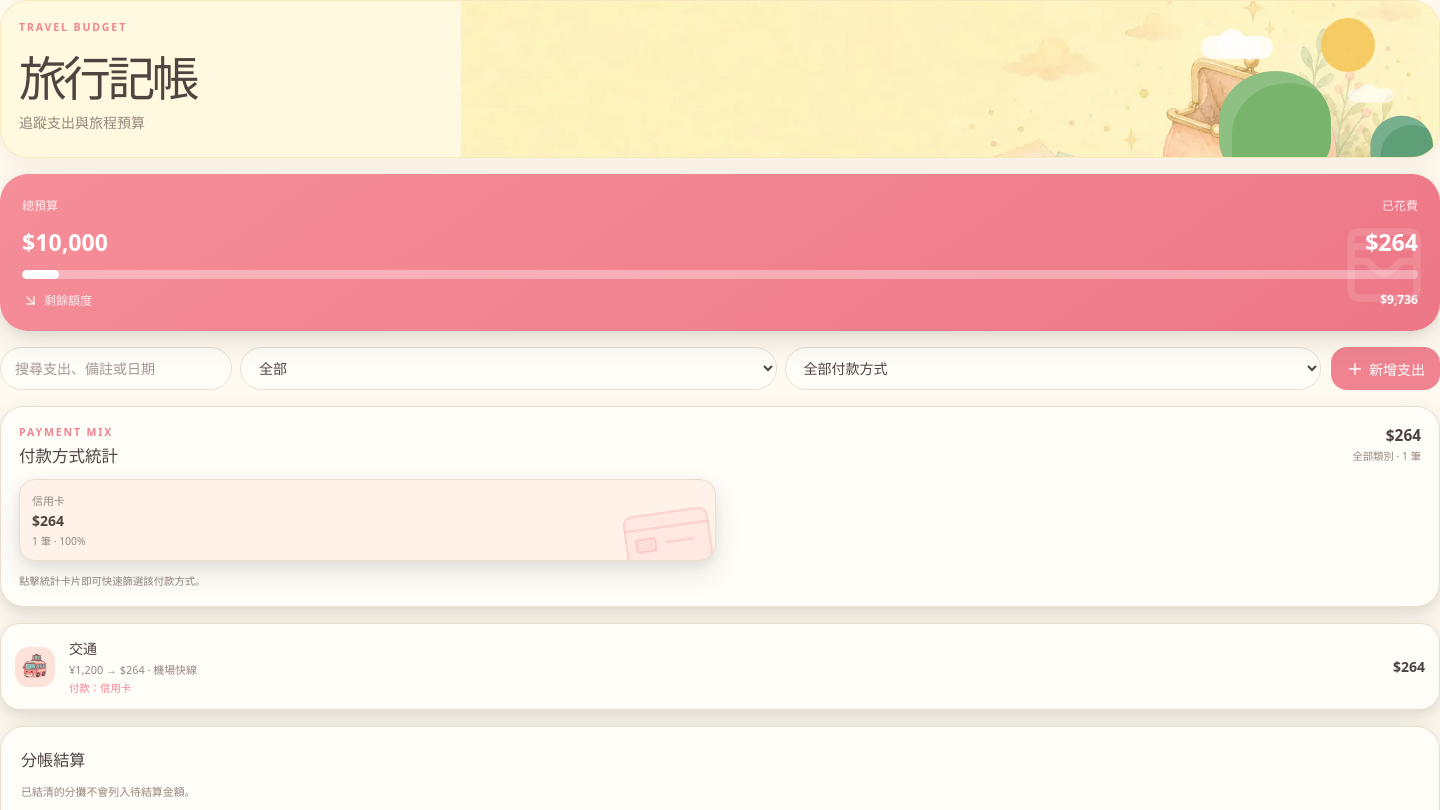
Test: ExpensePage › removes an edited expense and its splits after delete confirmation
Click the button with aria-label "編輯交通支出" at (35,666), box [0,623,1439,710]
(page scrolled)
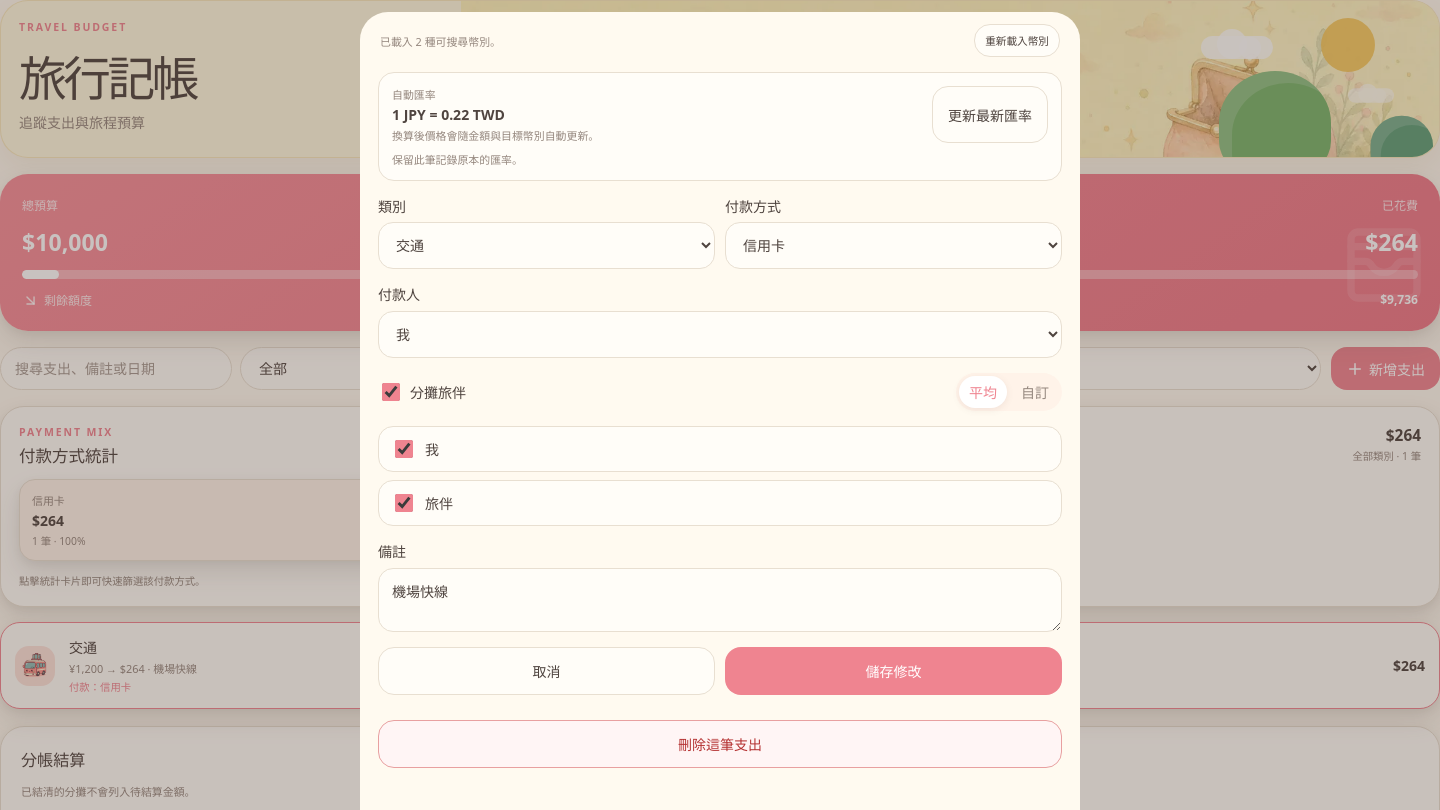
Click the button "刪除這筆支出" at (720,744), box [378,720,1062,768]
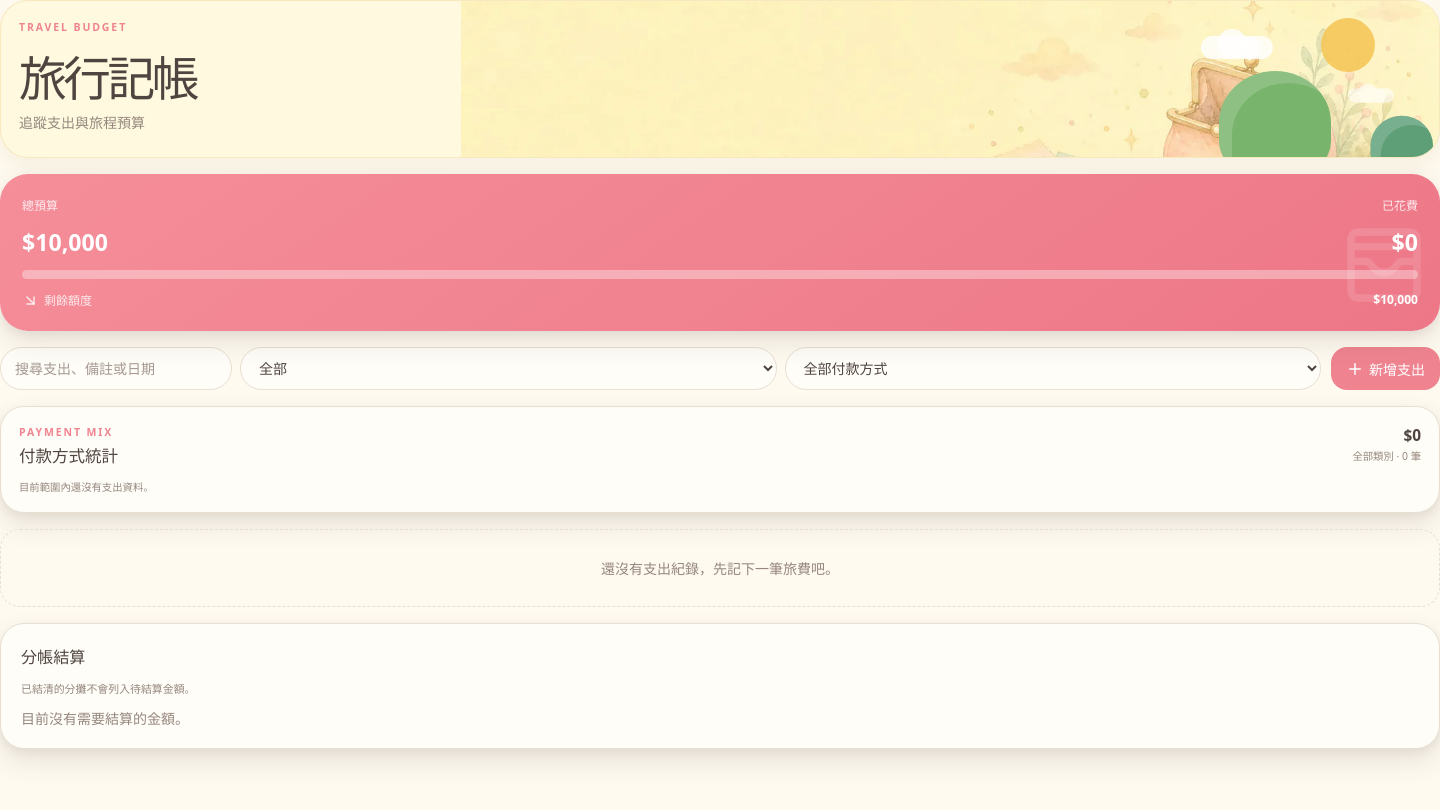
Check: the text "還沒有支出紀錄，先記下一筆旅費吧。" is shown, box [0,529,1439,607]
